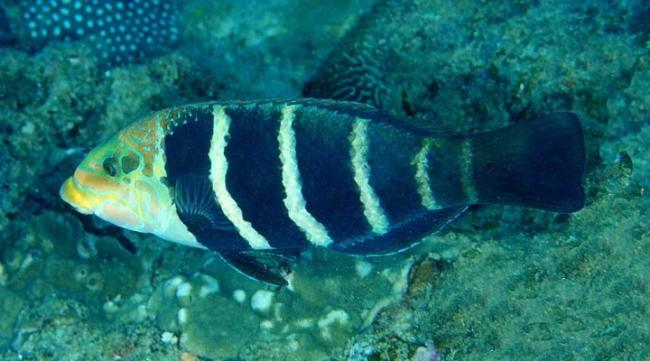fish: (59, 96, 589, 288)
